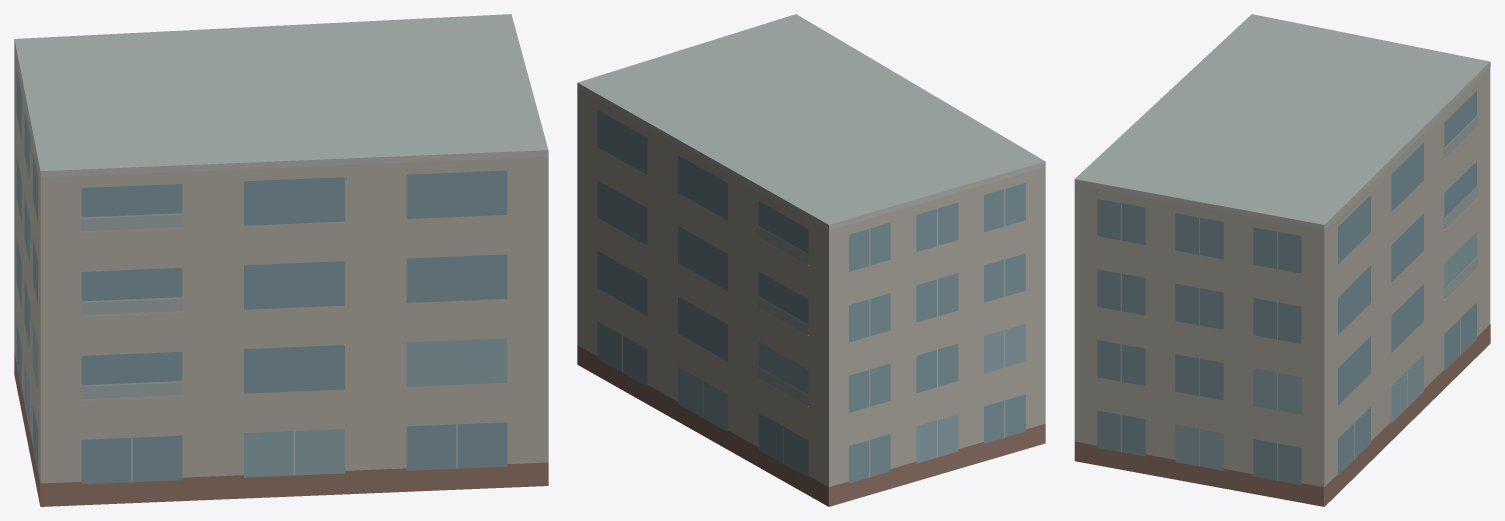
File: survey-upis-32526932.glb
The picture shows the model from 3 angles, left to right: view 1: azimuth 30°, elevation 25°; view 2: azimuth 150°, elevation 25°; view 3: azimuth 270°, elevation 25°; orthographic projection. The views are drawn at different scales.
Parts seen in each view (by area): view 1: survey-upis-32526932.tmp; view 2: survey-upis-32526932.tmp; view 3: survey-upis-32526932.tmp.
Boxes of the visible parts, box(x1,y1,x2,y2) form: survey-upis-32526932.tmp: box(14, 14, 548, 506); survey-upis-32526932.tmp: box(577, 14, 1045, 506); survey-upis-32526932.tmp: box(1074, 14, 1490, 506).
Size of the model in its own units: 20.37 by 12.7 by 16.98.
